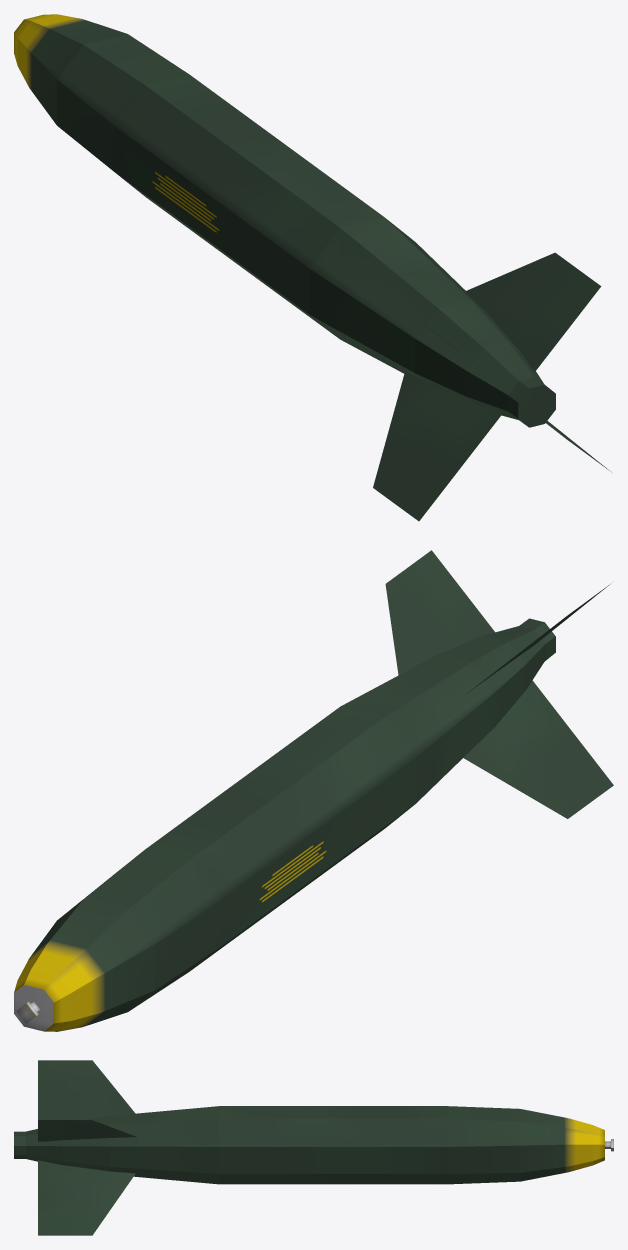
File: mk82_light.obj
3 views of the same model, one above another, from view 1: azimuth 30°, elevation 25°; view 2: azimuth 150°, elevation 25°; view 3: azimuth 270°, elevation 25° (orthographic). The views are drawn at different scales.
Parts seen in each view (by area): view 1: cylinder7, plane4, plane2; view 2: cylinder7, plane4, plane2; view 3: cylinder7, plane1, plane3, plane2.
Boxes of the visible parts, x1,y1,x2,y2 form: cylinder7: [14, 14, 555, 427]; plane4: [373, 371, 502, 521]; plane2: [465, 252, 601, 371]; cylinder7: [14, 618, 555, 1031]; plane4: [463, 680, 613, 818]; plane2: [385, 550, 494, 675]; cylinder7: [14, 1106, 604, 1184]; plane1: [38, 1160, 135, 1235]; plane3: [38, 1060, 135, 1119]; plane2: [38, 1120, 136, 1141].
Bounding box in the file's own units: 0.685 × 0.685 × 3.11.
